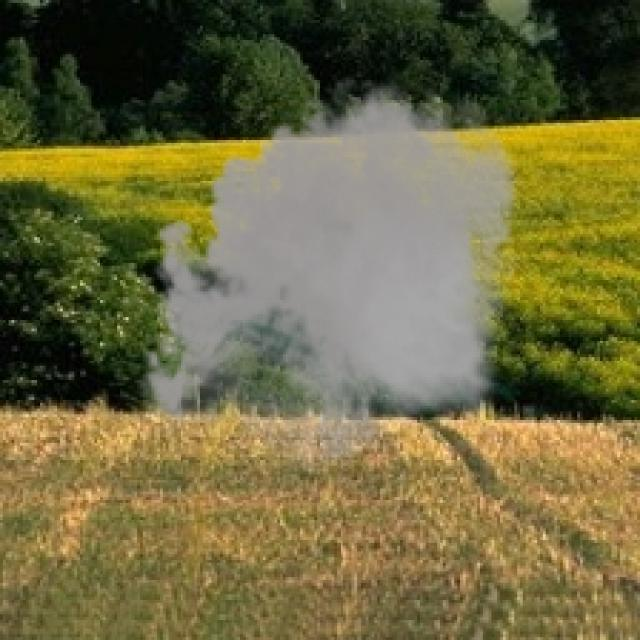smoke: (132, 68, 532, 486)
